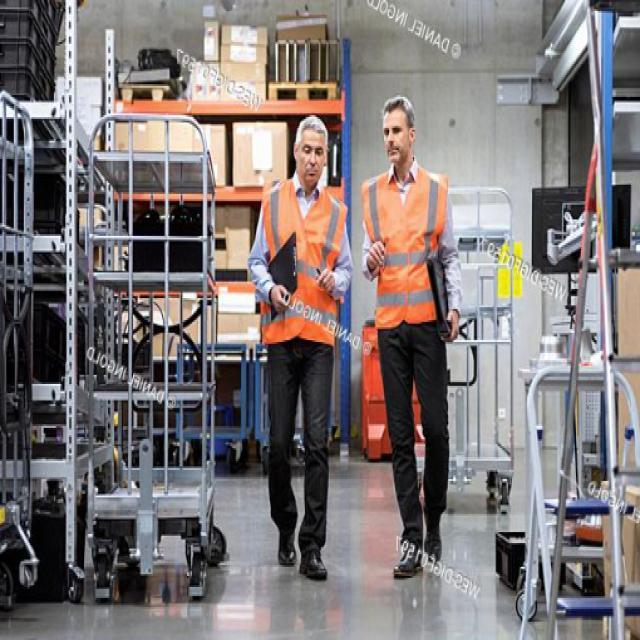shoes: (271, 517, 339, 587), (388, 521, 448, 584)
vest: (256, 176, 350, 354), (358, 163, 452, 336)
